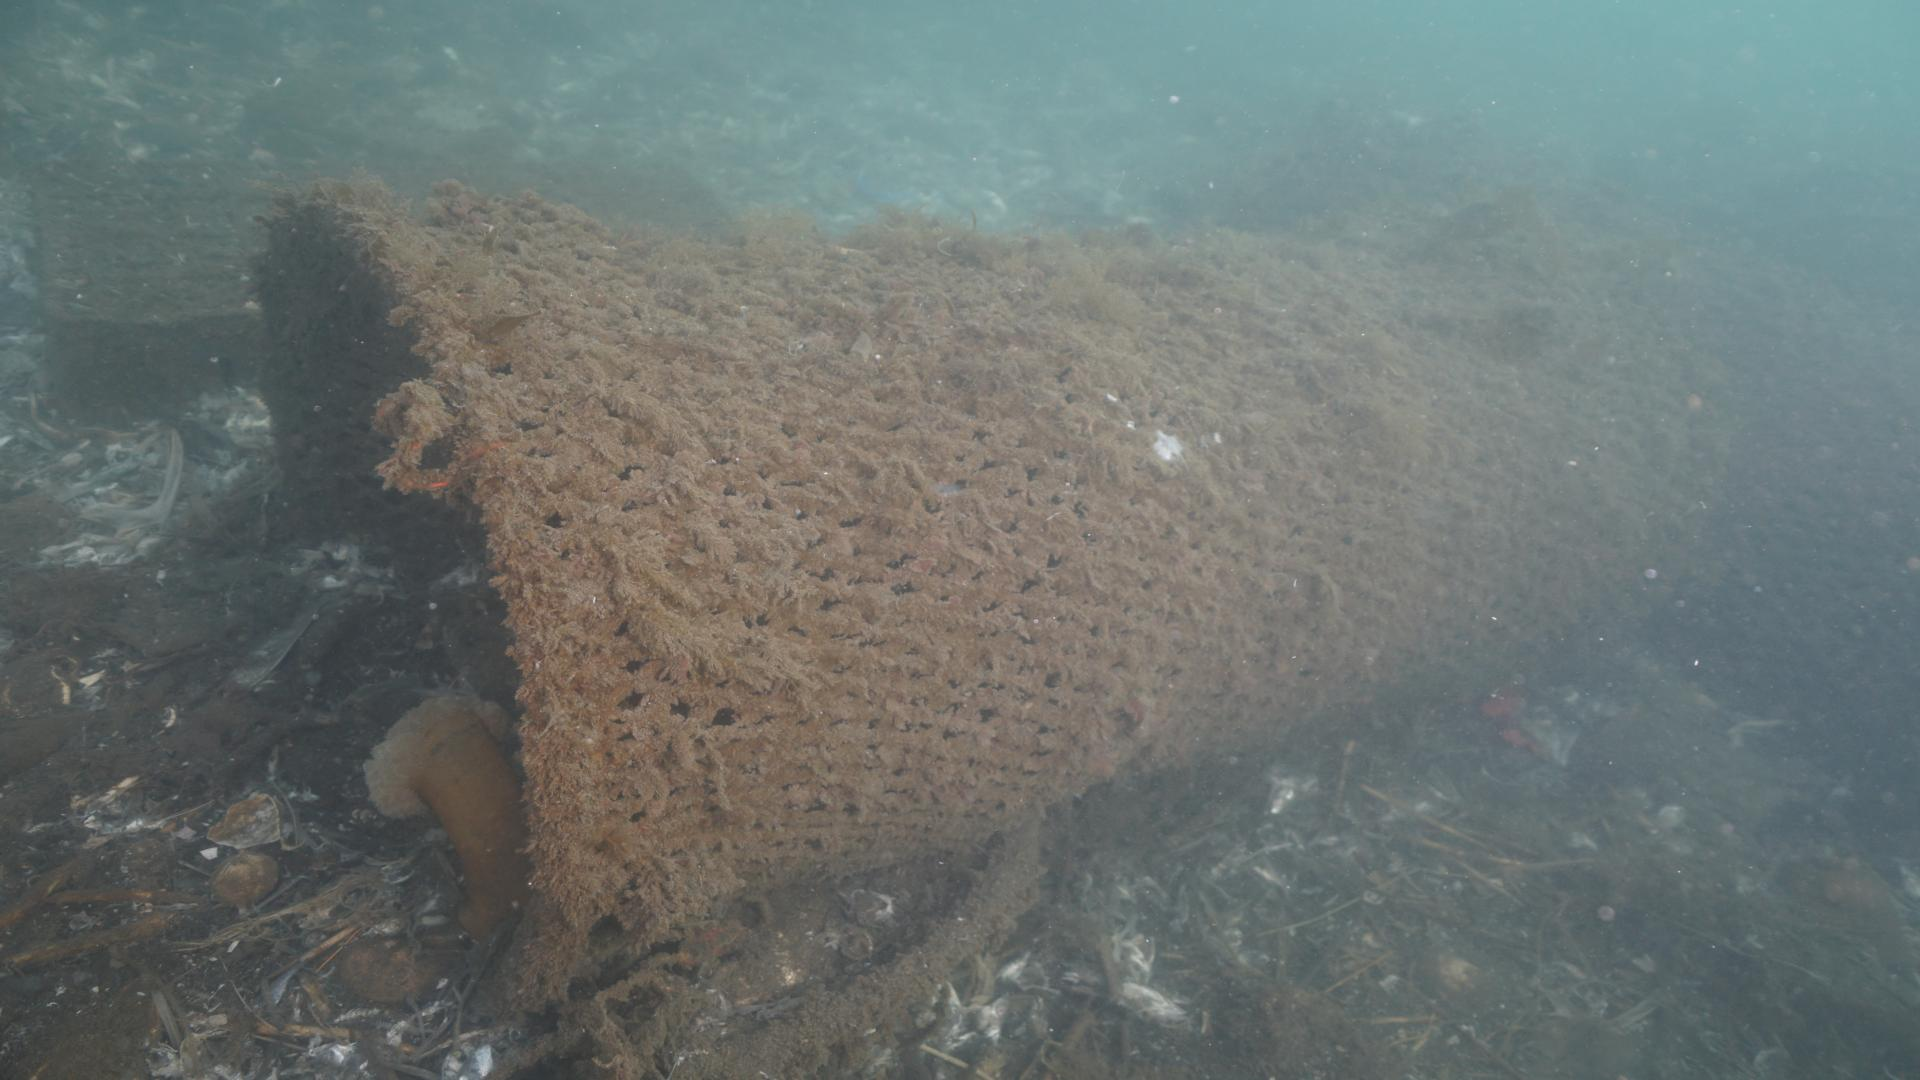spring fish trap: (244, 185, 1772, 977)
